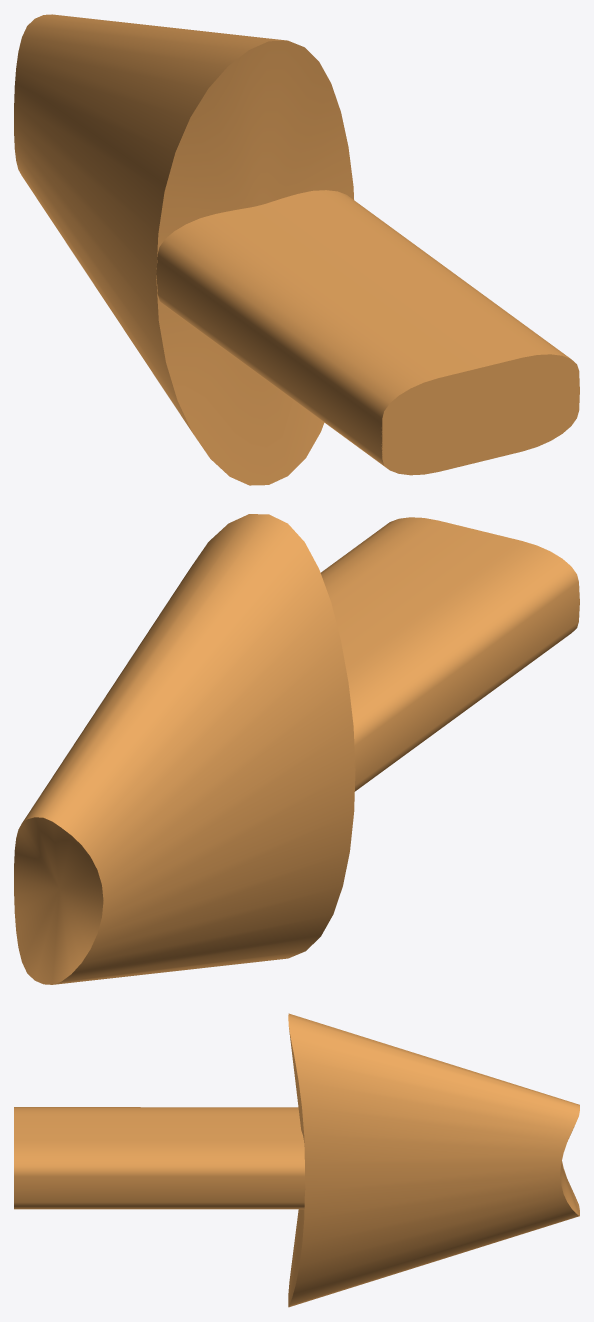
The model's file is marzeppa.fbx.
3 renders of one model, top to bottom at view 1: azimuth 30°, elevation 25°; view 2: azimuth 150°, elevation 25°; view 3: azimuth 270°, elevation 25°, orthographic. The views are drawn at different scales.
Visible parts, largest first — view 1: Cylinder; view 2: Cylinder; view 3: Cylinder.
Part boxes in pixels (left/top/right/bottom): Cylinder: left=14, top=14, right=579, bottom=485; Cylinder: left=14, top=514, right=579, bottom=984; Cylinder: left=14, top=1013, right=579, bottom=1307.
Bounding box in the file's own units: 186 × 397 × 708.
